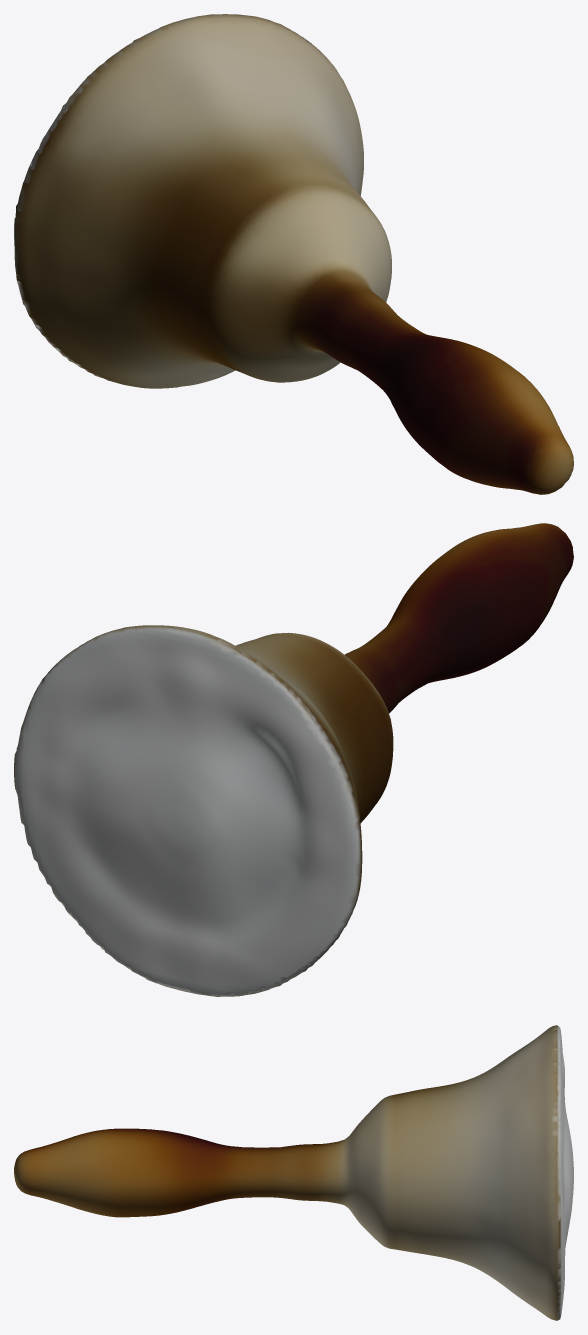
The model's file is bell.glb.
3 views of the same model, one above another, from view 1: azimuth 30°, elevation 25°; view 2: azimuth 150°, elevation 25°; view 3: azimuth 270°, elevation 25° (orthographic). The views are drawn at different scales.
Bounding box in the file's own units: 0.5264 × 0.5271 × 0.9997.
